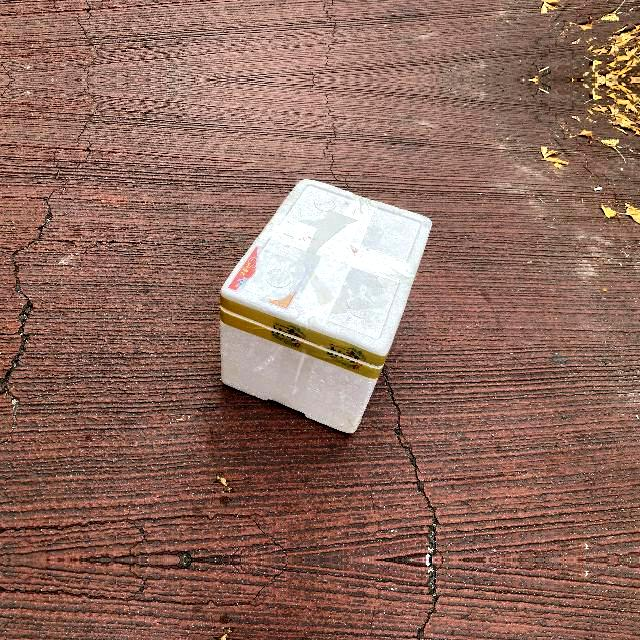Styrofoam: (218, 178, 432, 434), (220, 179, 432, 434)
